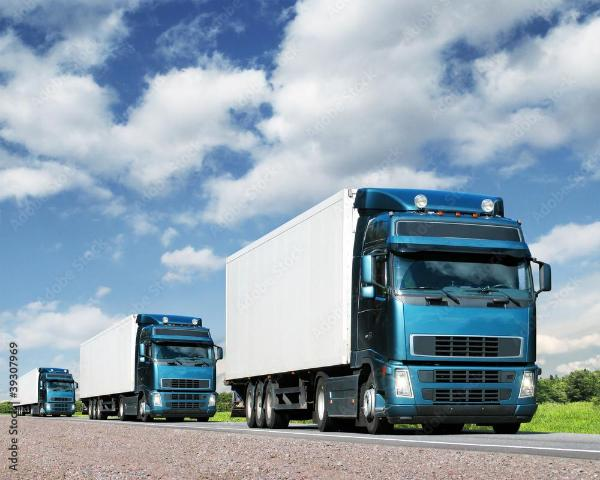truck: (213, 184, 560, 423)
